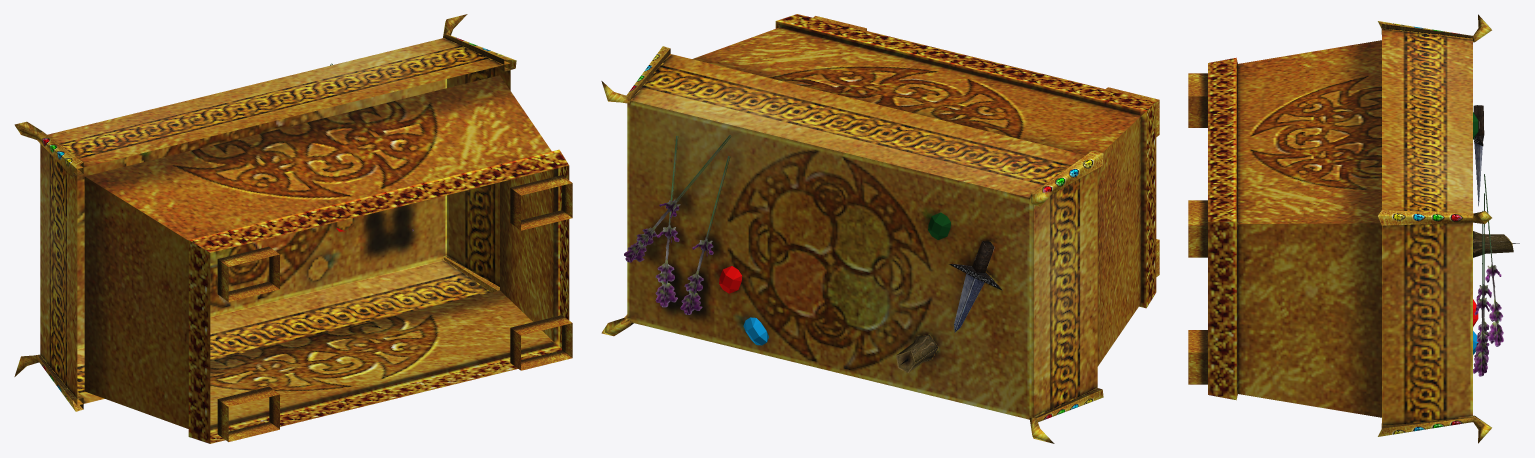
File: altar-gold.dae
The picture shows the model from 3 angles, left to right: view 1: azimuth 30°, elevation 25°; view 2: azimuth 150°, elevation 25°; view 3: azimuth 270°, elevation 25°; orthographic projection. The views are drawn at different scales.
Visible parts, largest first — view 1: altargold; view 2: altargold; view 3: altargold.
Part boxes in pixels (left/top/right/bottom): altargold: left=14, top=14, right=572, bottom=443; altargold: left=601, top=14, right=1159, bottom=443; altargold: left=1188, top=14, right=1519, bottom=443.
Size of the model in its own units: 108 by 57.58 by 75.56.
2 materials, 2 textured.
